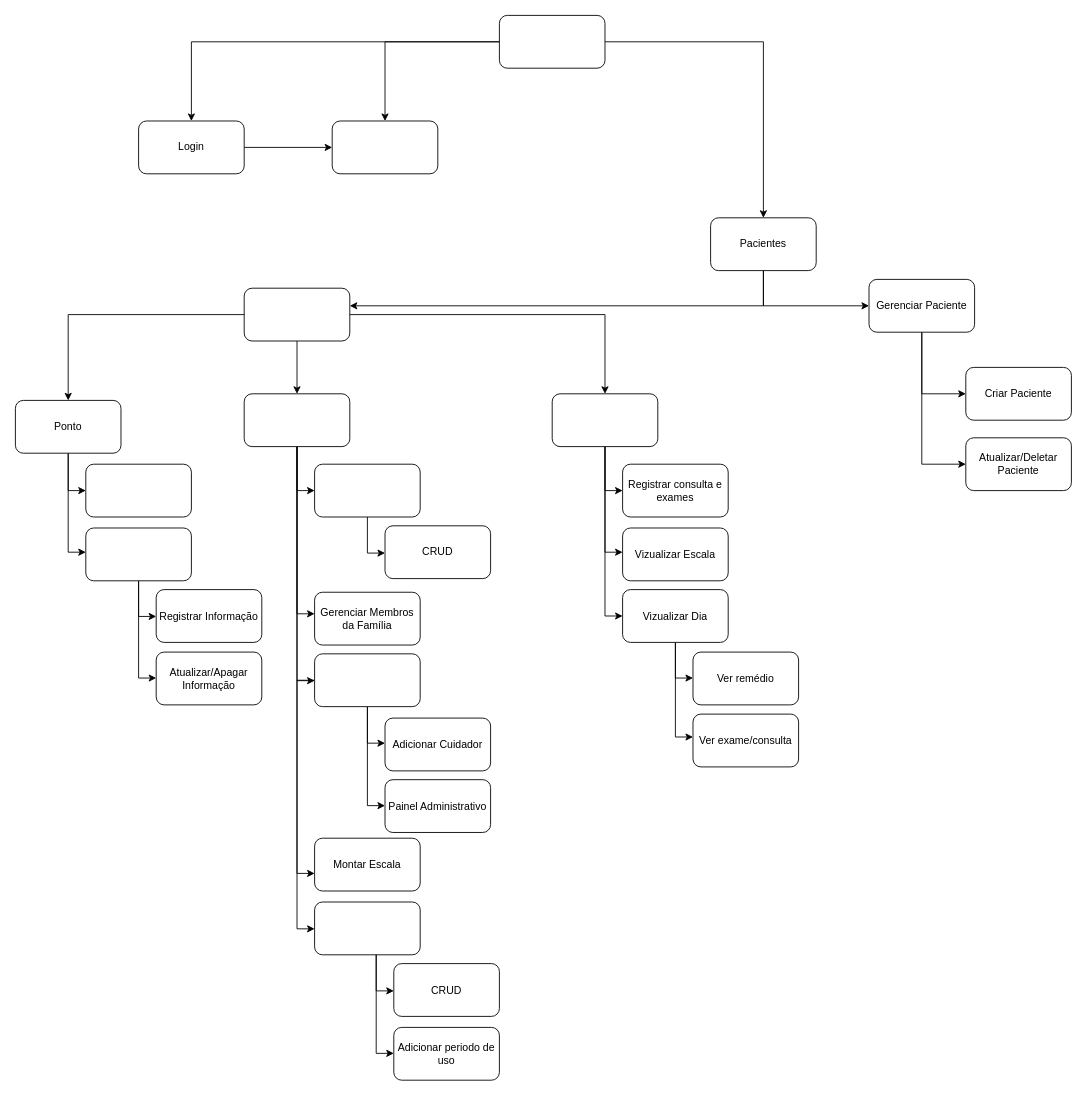
Some shapes in this 1087 by 1096 pixel diagram are drawn without their labels. The box of each missing label's shape, as (x1, y1, x2, y2) in pixels:
Agenda: (551, 393, 658, 447)
Cadastro: (331, 120, 438, 174)
Diário: (85, 527, 191, 581)
Gerenciar Cuidador: (314, 653, 420, 707)
Gerenciar Médico: (314, 463, 420, 517)
Gerenciar Remédio: (314, 901, 420, 955)
Home: (499, 15, 605, 68)
Paciente Atendendo: (243, 287, 350, 341)
Registrar Entrada/Saída: (85, 463, 191, 517)
Tela Gerencial: (243, 393, 350, 447)
